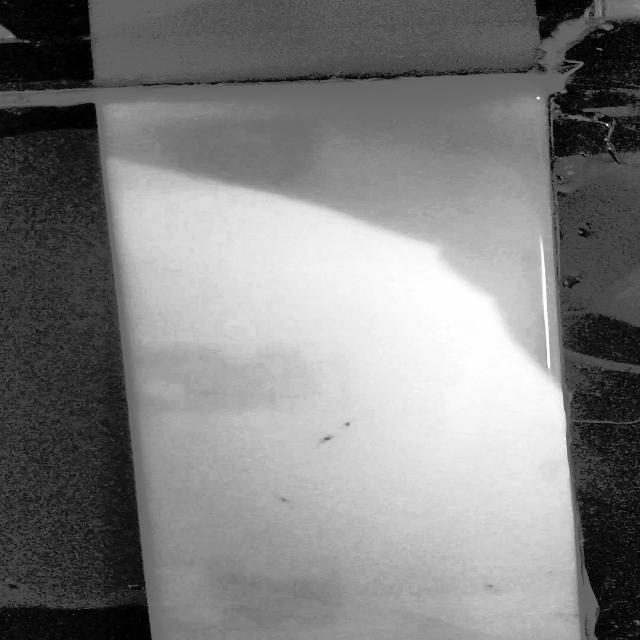shrimp: (328, 416, 358, 434), (313, 435, 346, 448), (271, 495, 302, 505)
